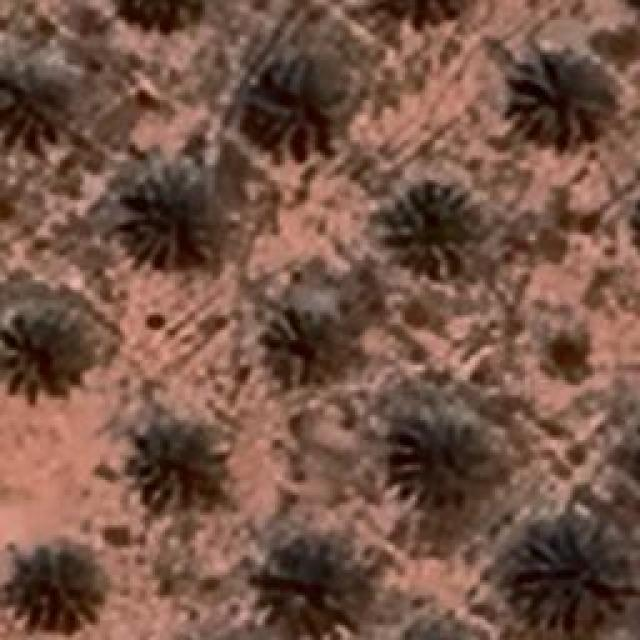PalmTree: (515, 518, 635, 632), (30, 15, 161, 106), (258, 541, 362, 639), (125, 160, 217, 270), (2, 540, 108, 635), (242, 50, 340, 150), (508, 52, 610, 146), (390, 412, 488, 506), (382, 180, 480, 272), (128, 422, 222, 510), (265, 308, 365, 388), (0, 308, 80, 402), (372, 0, 474, 24), (392, 618, 492, 640), (392, 624, 490, 640)
